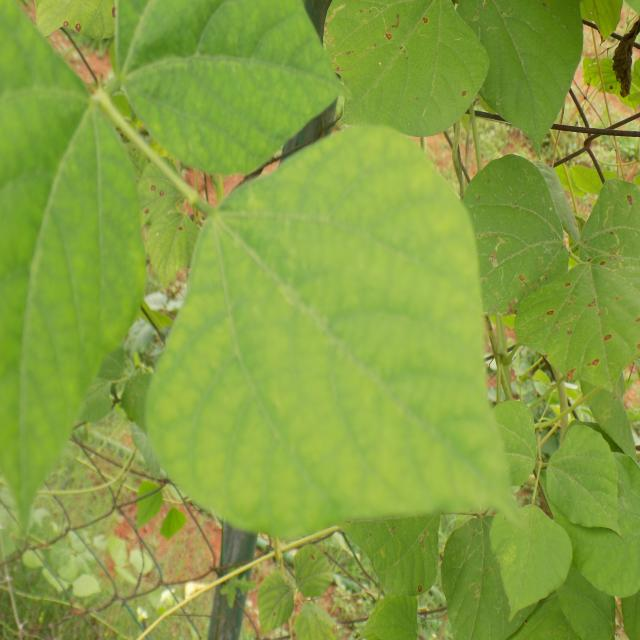Dolicos bean_cercospora leaf spot: (322, 0, 481, 140), (517, 241, 640, 393)
Dolicos bean_healthy: (148, 113, 522, 536), (101, 0, 352, 180), (448, 151, 568, 319), (452, 0, 586, 148), (545, 445, 640, 605), (481, 499, 576, 625), (537, 408, 614, 528)
